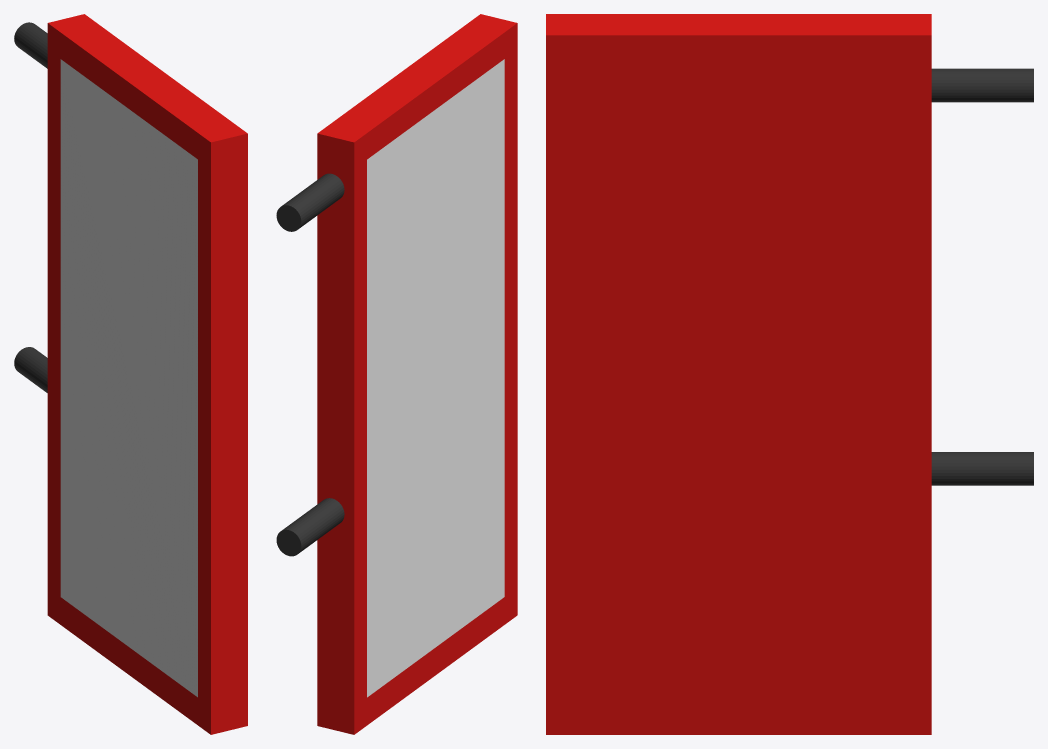
The model's file is Side Sign.fbx.
3 renders of one model, left to right at view 1: azimuth 30°, elevation 25°; view 2: azimuth 150°, elevation 25°; view 3: azimuth 270°, elevation 25°, orthographic. The views are drawn at different scales.
Visible parts, largest first — view 1: Cube.036; view 2: Cube.036; view 3: Cube.036.
Part boxes in pixels (left/top/right/bottom): Cube.036: left=14, top=14, right=247, bottom=734; Cube.036: left=276, top=14, right=517, bottom=734; Cube.036: left=546, top=14, right=1033, bottom=734.
Size of the model in its own units: 81.84 by 1257 by 794.
